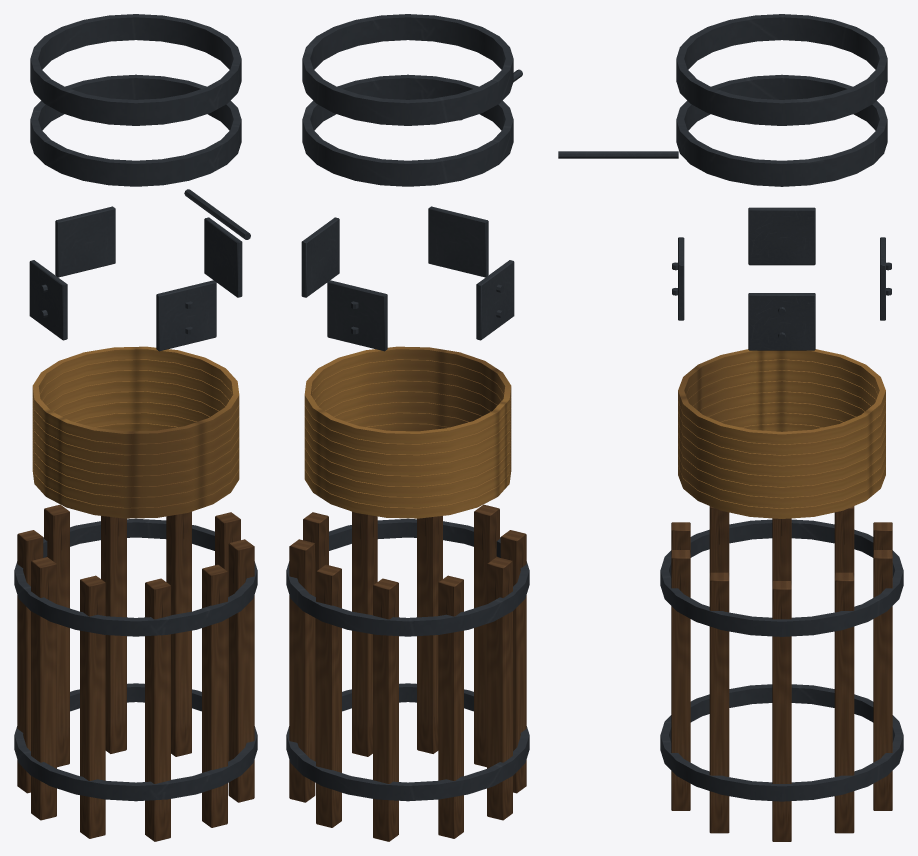
File: settlement_inn_undercroft_pile_dressing_35.gltf
3 views of the same model, side by side, from view 1: azimuth 30°, elevation 25°; view 2: azimuth 150°, elevation 25°; view 3: azimuth 270°, elevation 25° (orthographic).
Visible parts, largest first — view 1: settlement_inn_undercroft_pile_dressing_35_LOD0; view 2: settlement_inn_undercroft_pile_dressing_35_LOD0; view 3: settlement_inn_undercroft_pile_dressing_35_LOD0.
Part boxes in pixels (x1,y1,x2,y2): settlement_inn_undercroft_pile_dressing_35_LOD0: (14, 14, 257, 841); settlement_inn_undercroft_pile_dressing_35_LOD0: (286, 14, 529, 841); settlement_inn_undercroft_pile_dressing_35_LOD0: (558, 14, 903, 841).
Size of what is drawn, in the model's own units: 0.87 by 2.9 by 1.24.
Materials: 3 (3 with a texture image).
